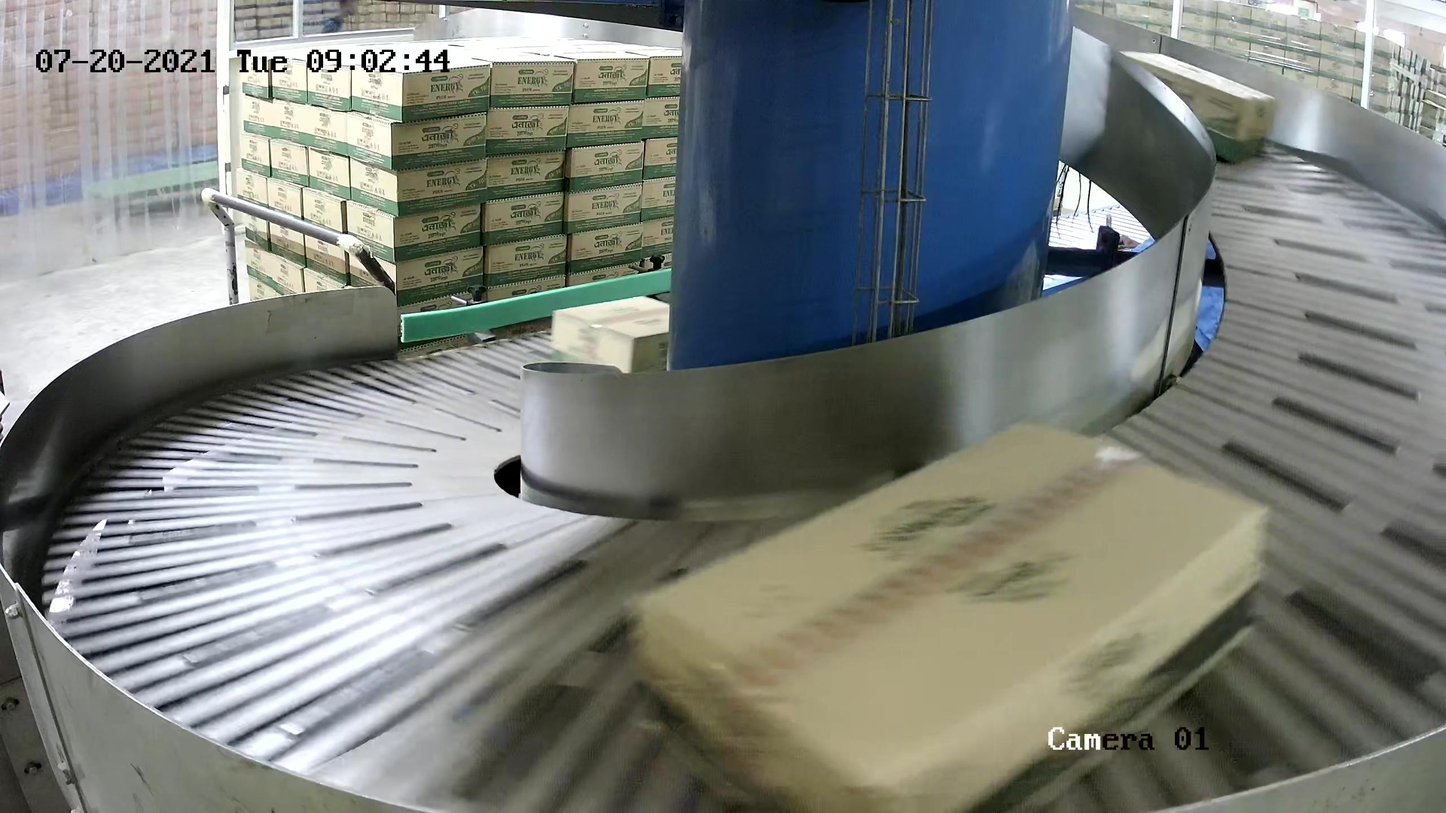Box: (630, 414, 1273, 813), (1117, 49, 1277, 165), (549, 292, 669, 374)
